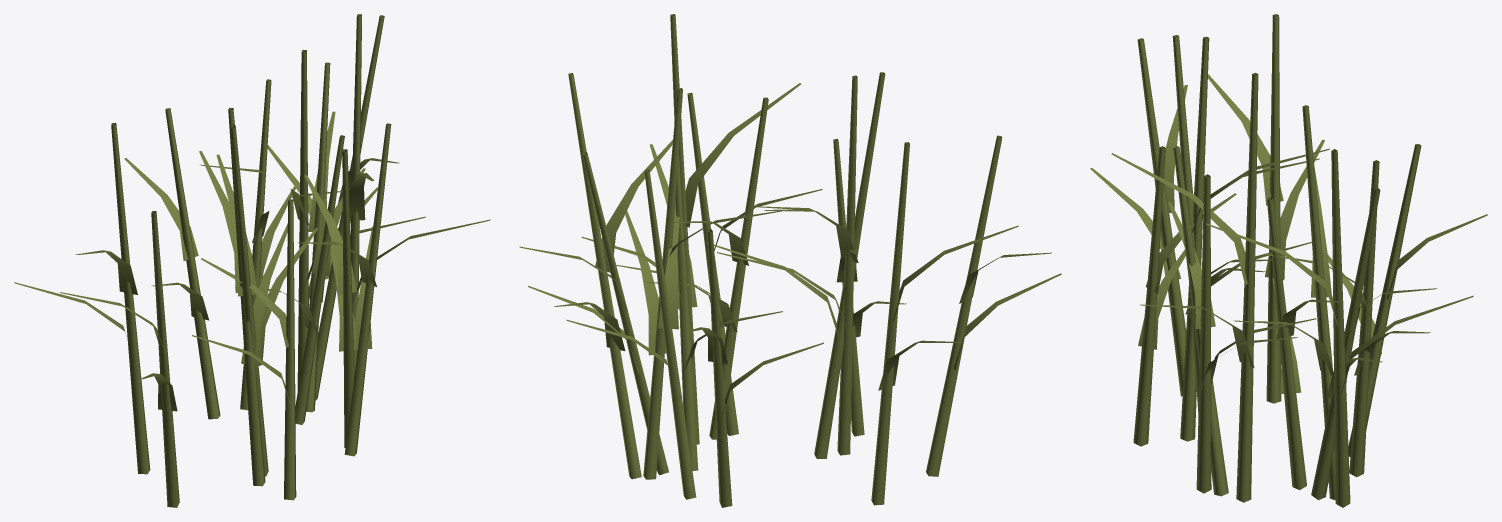
The model's file is caral_carrizo_lod0.glb.
3 views of the same model, side by side, from view 1: azimuth 30°, elevation 25°; view 2: azimuth 150°, elevation 25°; view 3: azimuth 270°, elevation 25° (orthographic). The views are drawn at different scales.
Visible parts, largest first — view 1: GEO-Kit_carrizo_LOD0; view 2: GEO-Kit_carrizo_LOD0; view 3: GEO-Kit_carrizo_LOD0.
Part boxes in pixels (left/top/right/bottom): GEO-Kit_carrizo_LOD0: left=14, top=14, right=490, bottom=507; GEO-Kit_carrizo_LOD0: left=519, top=14, right=1061, bottom=507; GEO-Kit_carrizo_LOD0: left=1090, top=14, right=1487, bottom=507.
Size of the model in its own units: 2.34 by 2.25 by 1.87.
